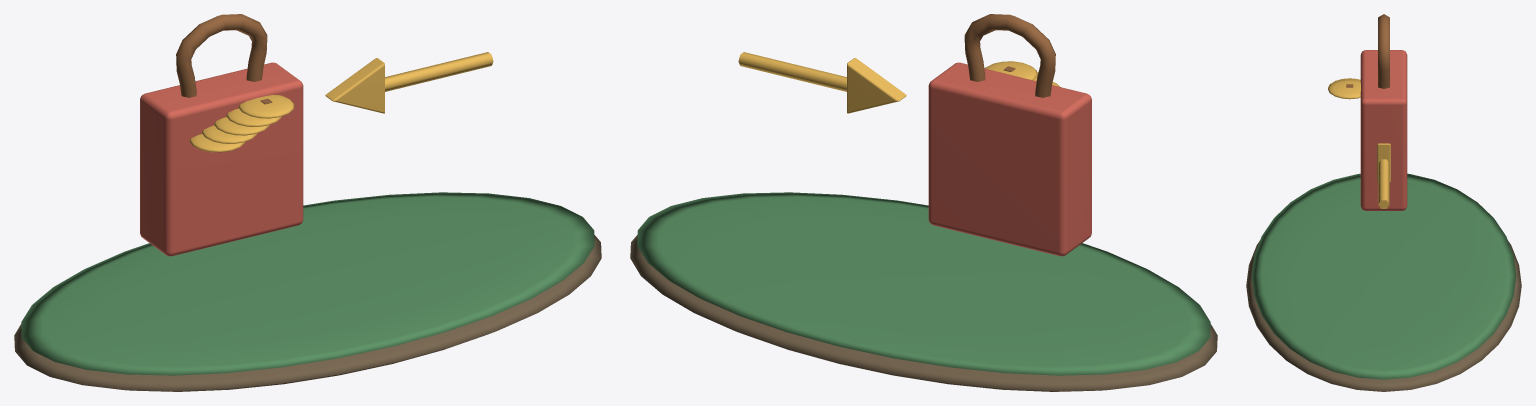
The model's file is complete-third-collected-inward.glb.
The picture shows the model from 3 angles, left to right: view 1: azimuth 30°, elevation 25°; view 2: azimuth 150°, elevation 25°; view 3: azimuth 270°, elevation 25°; orthographic projection. The views are drawn at different scales.
Visible parts, largest first — view 1: complete-third-collected-inward_surface_01, complete-third-collected-inward_surface_02, complete-third-collected-inward_surface_00, complete-third-collected-inward_surface_04, complete-third-collected-inward_surface_03; view 2: complete-third-collected-inward_surface_01, complete-third-collected-inward_surface_02, complete-third-collected-inward_surface_00, complete-third-collected-inward_surface_04, complete-third-collected-inward_surface_03; view 3: complete-third-collected-inward_surface_01, complete-third-collected-inward_surface_02, complete-third-collected-inward_surface_00, complete-third-collected-inward_surface_04, complete-third-collected-inward_surface_03.
Boxes of the visible parts, <box> form: complete-third-collected-inward_surface_01: <box>21,192,594,375</box>; complete-third-collected-inward_surface_02: <box>140,62,303,256</box>; complete-third-collected-inward_surface_00: <box>14,235,601,391</box>; complete-third-collected-inward_surface_04: <box>189,52,493,152</box>; complete-third-collected-inward_surface_03: <box>176,14,272,104</box>; complete-third-collected-inward_surface_01: <box>637,192,1210,375</box>; complete-third-collected-inward_surface_02: <box>928,62,1091,256</box>; complete-third-collected-inward_surface_00: <box>630,235,1217,391</box>; complete-third-collected-inward_surface_04: <box>738,52,1059,113</box>; complete-third-collected-inward_surface_03: <box>964,14,1055,97</box>; complete-third-collected-inward_surface_01: <box>1251,173,1516,379</box>; complete-third-collected-inward_surface_02: <box>1360,50,1407,210</box>; complete-third-collected-inward_surface_00: <box>1246,241,1521,391</box>; complete-third-collected-inward_surface_04: <box>1328,78,1390,208</box>; complete-third-collected-inward_surface_03: <box>1346,14,1389,88</box>.
Size of the model in its own units: 4.56 by 2.48 by 2.5.
